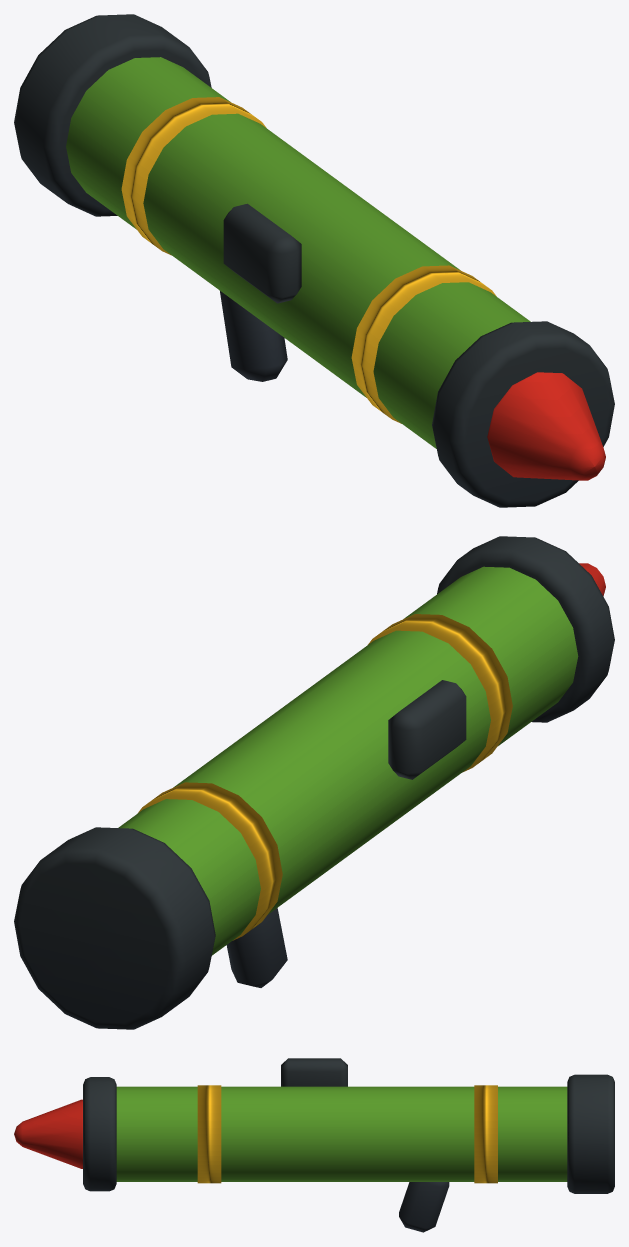
The model's file is weapon_missile.glb.
3 renders of one model, top to bottom at view 1: azimuth 30°, elevation 25°; view 2: azimuth 150°, elevation 25°; view 3: azimuth 270°, elevation 25°, orthographic. The views are drawn at different scales.
Visible parts, largest first — view 1: Launcher tube, Muzzle ring, Rear flare, Warhead, Sight, Hazard band.002, Hazard band.001, Pistol grip.009; view 2: Launcher tube, Rear flare, Muzzle ring, Sight, Hazard band.002, Hazard band.001, Pistol grip.009; view 3: Launcher tube, Rear flare, Muzzle ring, Warhead, Hazard band.001, Hazard band.002, Pistol grip.009, Sight.
Boxes of the visible parts, x1=… form: Launcher tube: x1=66, y1=57, x2=530, y2=448; Muzzle ring: x1=432, y1=321, x2=614, y2=507; Rear flare: x1=14, y1=14, x2=211, y2=216; Warhead: x1=487, y1=372, x2=605, y2=480; Sight: x1=223, y1=203, x2=301, y2=303; Hazard band.002: x1=121, y1=97, x2=266, y2=255; Hazard band.001: x1=351, y1=265, x2=496, y2=423; Pistol grip.009: x1=220, y1=291, x2=287, y2=381; Launcher tube: x1=118, y1=566, x2=578, y2=955; Rear flare: x1=14, y1=827, x2=215, y2=1029; Muzzle ring: x1=437, y1=536, x2=614, y2=722; Sight: x1=388, y1=680, x2=466, y2=779; Hazard band.002: x1=138, y1=782, x2=282, y2=940; Hazard band.001: x1=368, y1=614, x2=512, y2=772; Pistol grip.009: x1=226, y1=908, x2=287, y2=987; Launcher tube: x1=116, y1=1086, x2=567, y2=1181; Rear flare: x1=567, y1=1074, x2=614, y2=1193; Muzzle ring: x1=83, y1=1077, x2=116, y2=1191; Warhead: x1=14, y1=1099, x2=82, y2=1168; Hazard band.001: x1=197, y1=1085, x2=221, y2=1183; Hazard band.002: x1=474, y1=1085, x2=497, y2=1183; Pistol grip.009: x1=399, y1=1182, x2=449, y2=1232; Sight: x1=281, y1=1058, x2=347, y2=1086.
Size of the model in its own units: 0.27 by 0.3478 by 1.26.
Materials: 5 (5 with a texture image).
